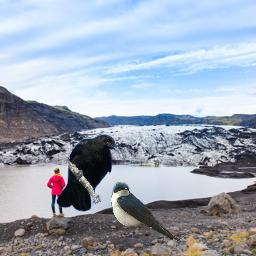Crow: (56, 134, 119, 212)
Swallow: (111, 182, 182, 242)
